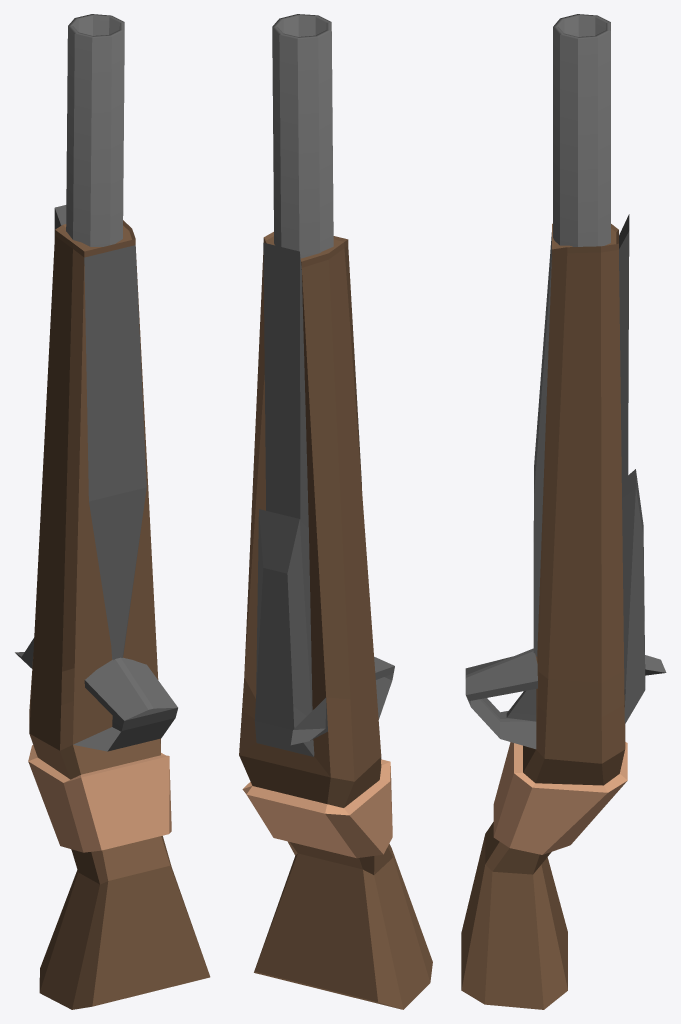
The model's file is rifle.glb.
3 renders of one model, left to right at view 1: azimuth 30°, elevation 25°; view 2: azimuth 150°, elevation 25°; view 3: azimuth 270°, elevation 25°, orthographic. The views are drawn at different scales.
Parts seen in each view (by area): view 1: rifle; view 2: rifle; view 3: rifle.
Part boxes in pixels (x1,y1,x2,y2): rifle: [15, 14, 210, 1009]; rifle: [239, 14, 432, 1009]; rifle: [461, 14, 666, 1009].
Size of the model in its own units: 0.245 by 1.53 by 0.2987.
Materials: 1 (1 with a texture image).
